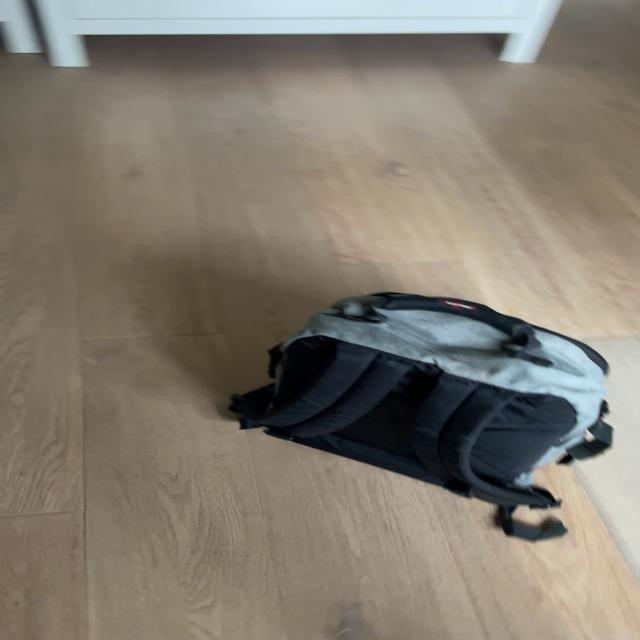backpack: (216, 280, 632, 508)
